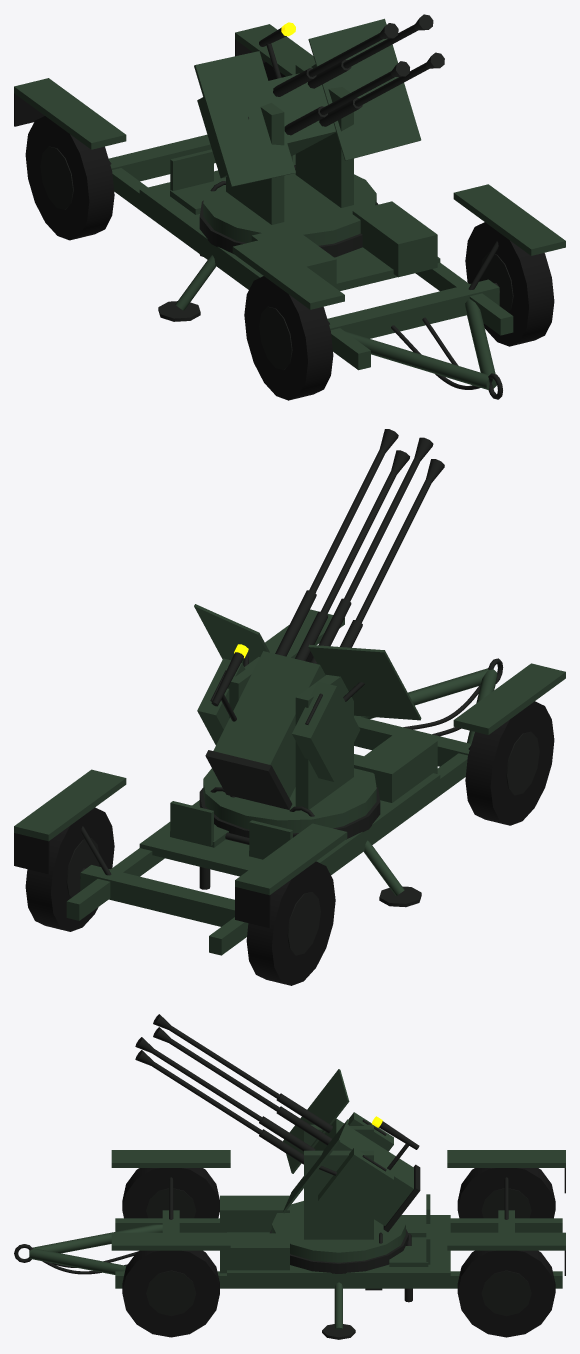
Rendered from zpu4-aa.glb.
3 views of the same model, one above another, from view 1: azimuth 30°, elevation 25°; view 2: azimuth 150°, elevation 25°; view 3: azimuth 270°, elevation 25° (orthographic). The views are drawn at different scales.
Visible parts, largest first — view 1: Mesh_ShieldR, Mesh_ShieldL, Mesh_TyreFR, Mesh_TyreRR, Mesh_TurretRotatingBase, Mesh_TyreFL, Mesh_ChassisAxleFront, Mesh_ToolboxL, Mesh_ChassisMidDeck, Mesh_PedestalSideL, Mesh_FenderFR, Mesh_FenderRR (+26 smaller); view 2: Mesh_CradleBlock, Mesh_TyreFR, Mesh_TyreRR, Mesh_TurretRotatingBase, Mesh_TyreRL, Mesh_ShieldR, Mesh_ChassisMidDeck, Mesh_ChassisAxleRear, Mesh_AmmoBoxR, Mesh_ToolboxR, Mesh_ChassisBeamR, Mesh_FenderFR (+24 smaller); view 3: Mesh_TyreRL, Mesh_TyreFL, Mesh_ChassisMidDeck, Mesh_TurretRotatingBase, Mesh_TyreRR, Mesh_TyreFR, Mesh_PedestalSideL, Mesh_AmmoBoxL, Mesh_ChassisBeamL, Mesh_CradleBlock, Mesh_ChassisBeamR, Mesh_ToolboxL (+27 smaller).
Boxes of the visible parts, x1,y1,x2,y2 form: Mesh_ShieldR: (194, 51, 295, 186); Mesh_ShieldL: (308, 18, 421, 160); Mesh_TyreFR: (244, 276, 333, 400); Mesh_TyreRR: (25, 116, 114, 240); Mesh_TurretRotatingBase: (203, 162, 376, 245); Mesh_TyreFL: (465, 222, 554, 346); Mesh_ChassisAxleFront: (327, 279, 499, 338); Mesh_ToolboxL: (352, 201, 437, 277); Mesh_ChassisMidDeck: (139, 154, 440, 290); Mesh_PedestalSideL: (295, 62, 353, 207); Mesh_FenderFR: (232, 238, 344, 309); Mesh_FenderRR: (14, 78, 126, 149); Mesh_CradleBlock: (213, 651, 325, 798); Mesh_TyreFR: (465, 701, 554, 825); Mesh_TyreRR: (246, 861, 335, 985); Mesh_TurretRotatingBase: (203, 759, 376, 833); Mesh_TyreRL: (25, 807, 114, 931); Mesh_ShieldR: (308, 644, 421, 720); Mesh_ChassisMidDeck: (139, 754, 440, 876); Mesh_ChassisAxleRear: (80, 865, 234, 926); Mesh_AmmoBoxR: (292, 681, 360, 781); Mesh_ToolboxR: (354, 731, 437, 802); Mesh_ChassisBeamR: (209, 753, 467, 955); Mesh_FenderFR: (453, 663, 565, 734); Mesh_TyreRL: (457, 1250, 555, 1337); Mesh_TyreFL: (122, 1250, 219, 1337); Mesh_ChassisMidDeck: (227, 1215, 450, 1279); Mesh_TurretRotatingBase: (271, 1201, 405, 1262); Mesh_TyreRR: (457, 1168, 555, 1218); Mesh_TyreFR: (122, 1168, 219, 1218); Mesh_PedestalSideL: (304, 1150, 373, 1239); Mesh_AmmoBoxL: (318, 1147, 393, 1226); Mesh_ChassisBeamL: (115, 1271, 562, 1288); Mesh_CradleBlock: (314, 1118, 413, 1225); Mesh_ChassisBeamR: (115, 1218, 562, 1232); Mesh_ToolboxL: (220, 1233, 289, 1273).
Bounding box in the file's own units: 1.64 × 2.13 × 3.95.
